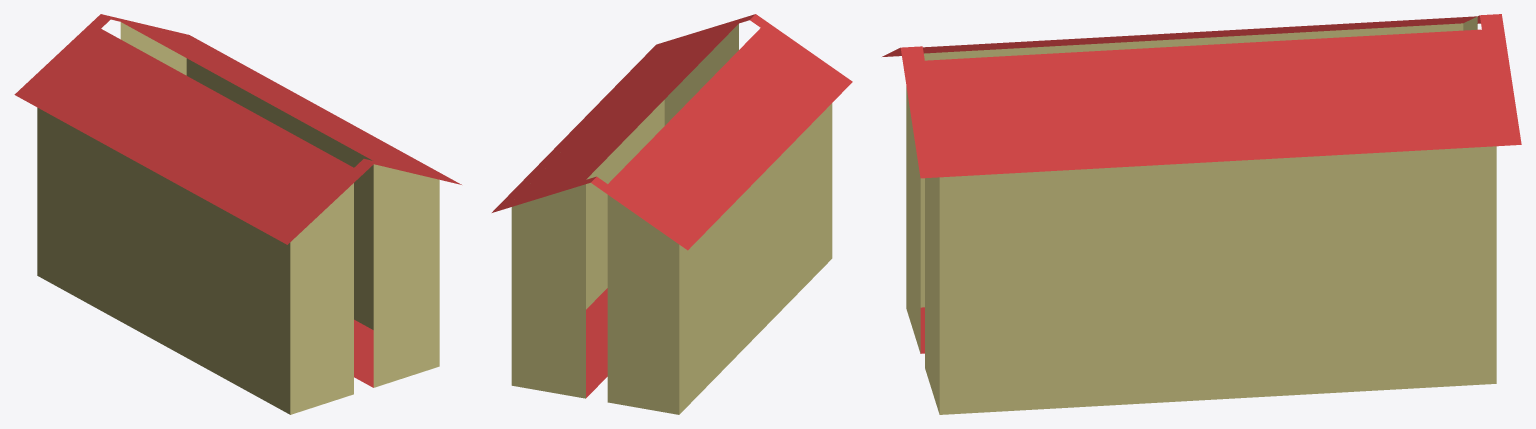
3 renders of one model, left to right at view 1: azimuth 30°, elevation 25°; view 2: azimuth 150°, elevation 25°; view 3: azimuth 270°, elevation 25°, orthographic. The views are drawn at different scales.
Size of the model in its own units: 12.67 by 21.58 by 11.7.
